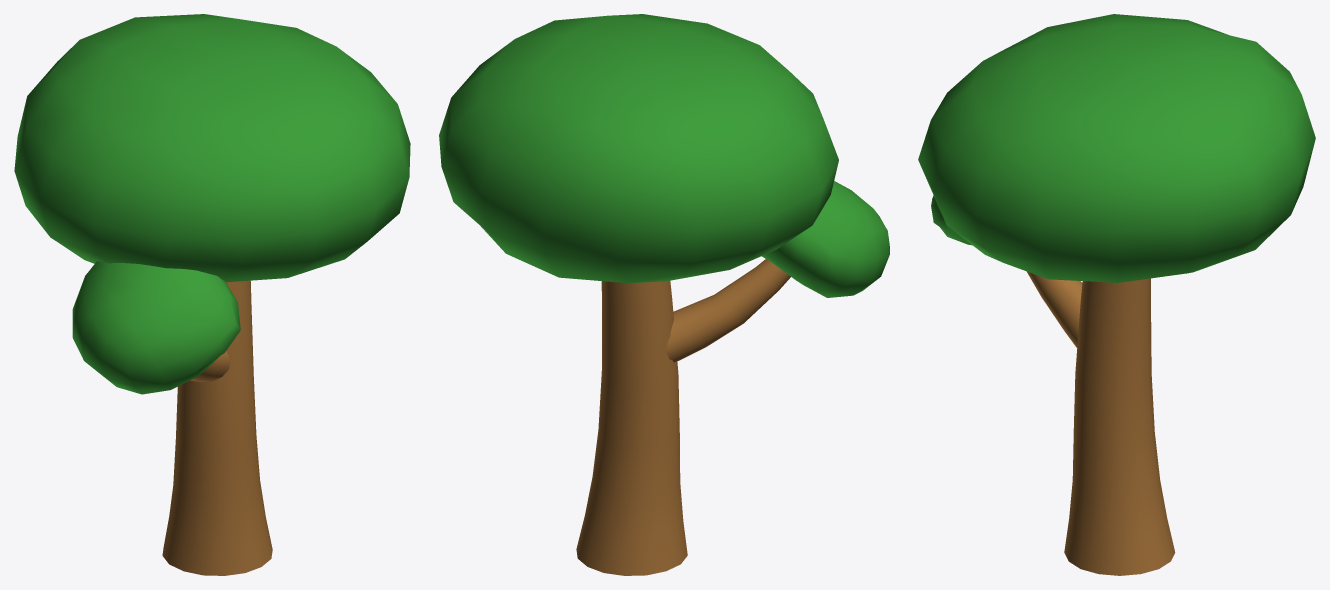
The model's file is Tree.fbx.
3 views of the same model, side by side, from view 1: azimuth 30°, elevation 25°; view 2: azimuth 150°, elevation 25°; view 3: azimuth 270°, elevation 25° (orthographic).
Visible parts, largest first — view 1: Tree.002_TreeLeaves, Tree.001_Tree, Branch_Untitled; view 2: Tree.002_TreeLeaves, Tree.001_Tree, Branch_Untitled; view 3: Tree.002_TreeLeaves, Tree.001_Tree, Branch_Untitled.
Part boxes in pixels (x1=…): Tree.002_TreeLeaves: x1=14, y1=14, x2=410, y2=394; Tree.001_Tree: x1=162, y1=280, x2=272, y2=575; Branch_Untitled: x1=190, y1=351, x2=230, y2=381; Tree.002_TreeLeaves: x1=439, y1=14, x2=889, y2=297; Tree.001_Tree: x1=576, y1=280, x2=687, y2=575; Branch_Untitled: x1=666, y1=259, x2=790, y2=362; Tree.002_TreeLeaves: x1=918, y1=14, x2=1315, y2=282; Tree.001_Tree: x1=1064, y1=278, x2=1175, y2=575; Branch_Untitled: x1=1026, y1=271, x2=1082, y2=347.
Size of the model in its own units: 101 by 136 by 98.23.
